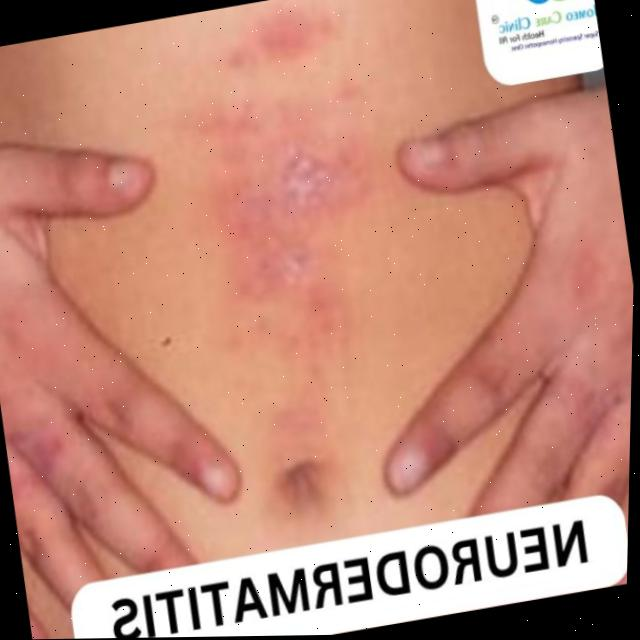Eczema: (198, 0, 428, 317)
